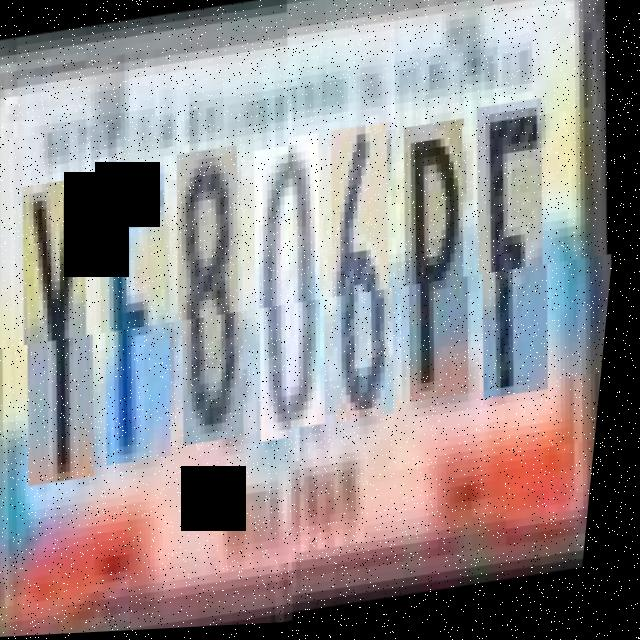6: (316, 133, 425, 435)
8: (161, 146, 274, 449)
F: (85, 165, 202, 469), (462, 110, 578, 414)
O: (239, 143, 356, 446)
P: (390, 130, 501, 416)
Y: (7, 176, 126, 488)
